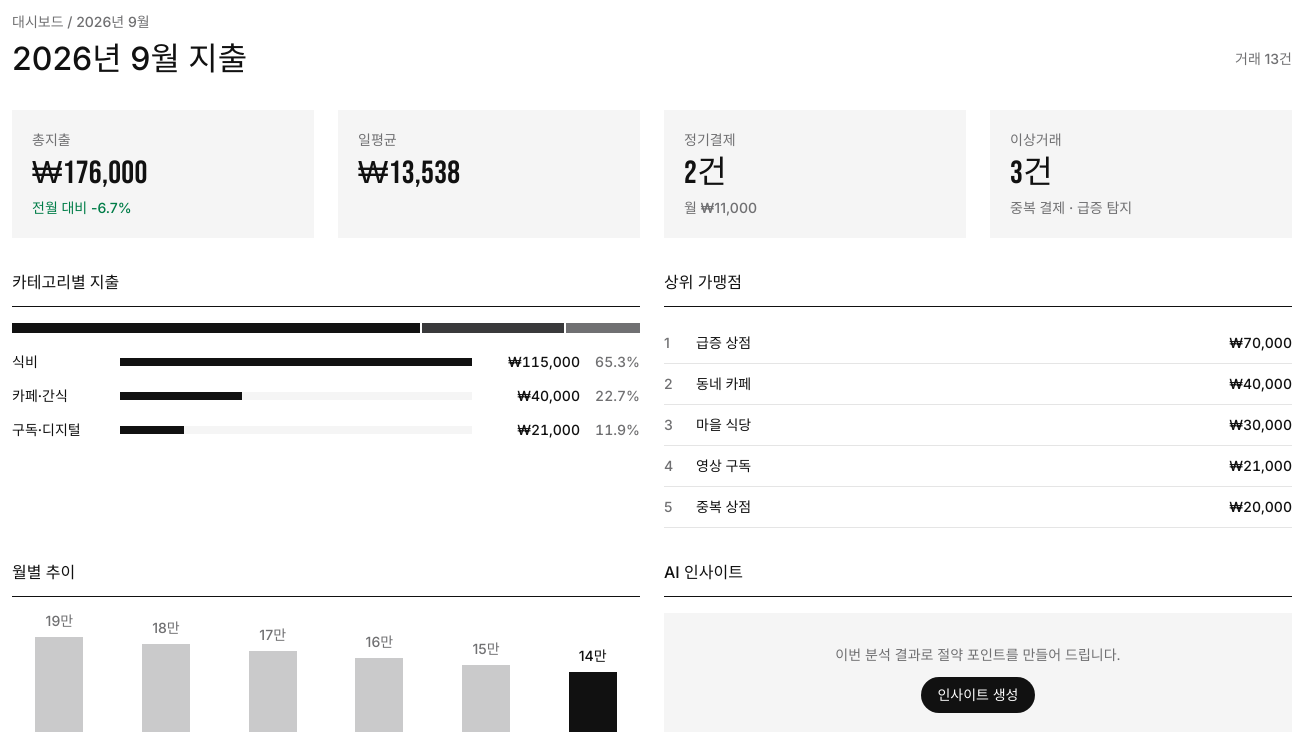
인사이트 상태 전이 › 실패 후 코드 문구로 안내하고 다시 시도한다
The width and height of the screenshot is (1304, 732).
Click the button "인사이트 생성" at (978, 695), box [922, 677, 1034, 713]
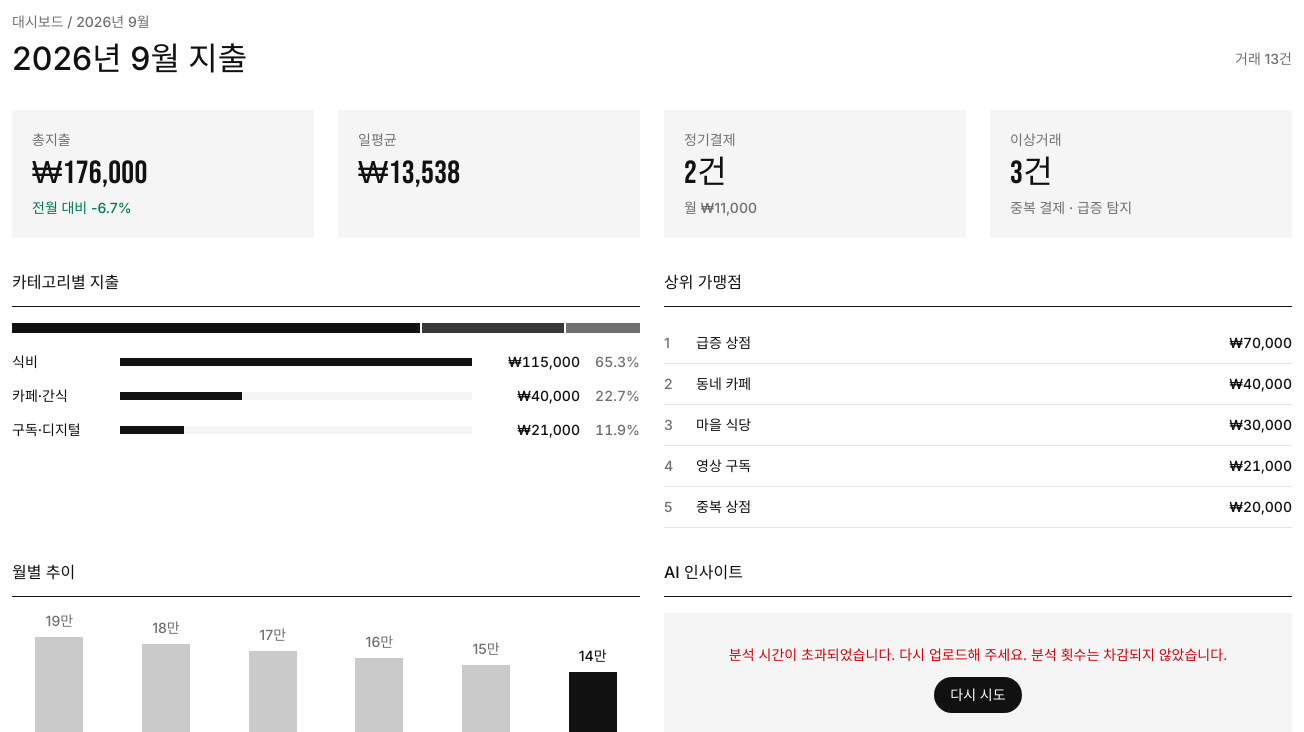
Check: the message reads "분석 시간이 초과되었습니다. 다시 업로드해 주세요. 분석 횟수는 차감되지 않았습니다.", box [729, 646, 1227, 663]
Click the button "다시 시도" at (978, 695), box [934, 677, 1022, 713]
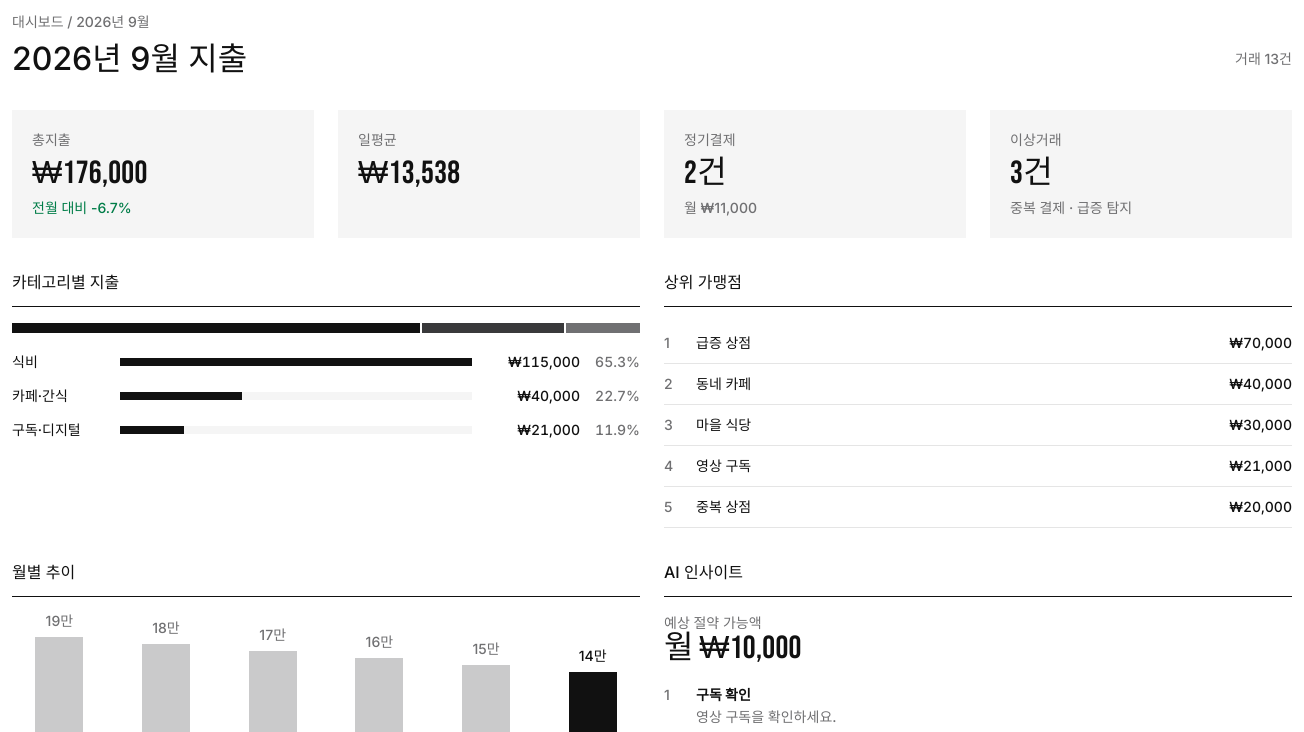
Check: the heading "구독 확인" is shown, box [696, 686, 751, 703]
